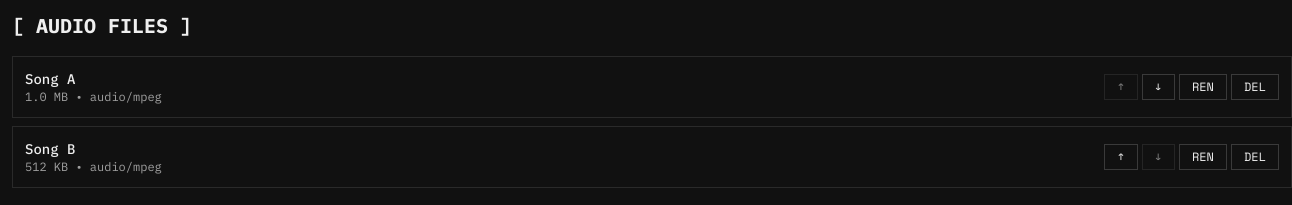
Test: AudioManager › should show error toast with API body when rename returns 409
This screenshot has width=1292, height=205.
Expected: the text "Song A" is shown, left=25, top=70, right=75, bottom=88
Click the button "REN" in the row of "Song A" at [1203, 87], box left=1179, top=74, right=1227, bottom=100
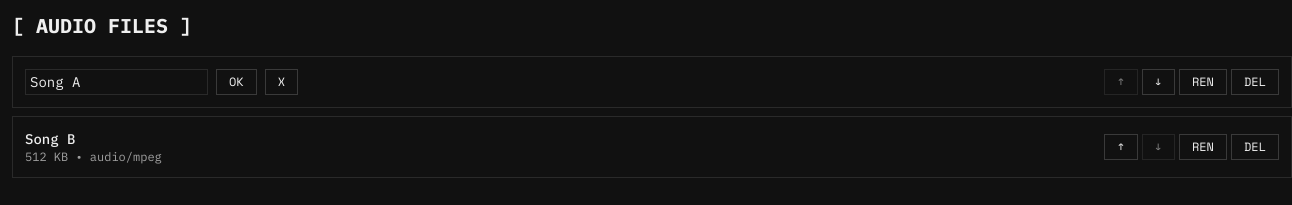
Replace the text in the field named "new title" with "Renamed" at [116, 82], box left=25, top=69, right=208, bottom=95
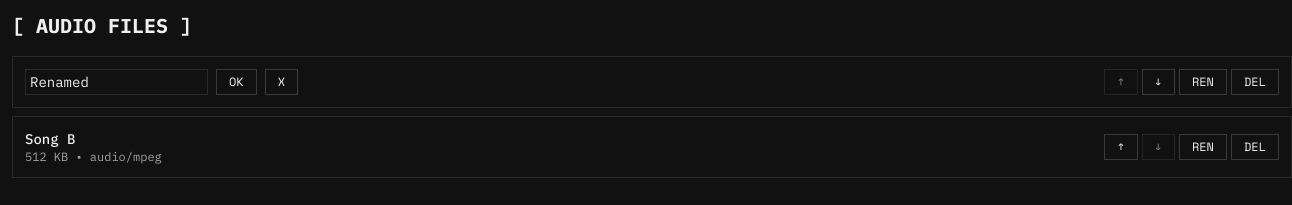
Click the button "OK" at [236, 82], box left=216, top=69, right=257, bottom=95
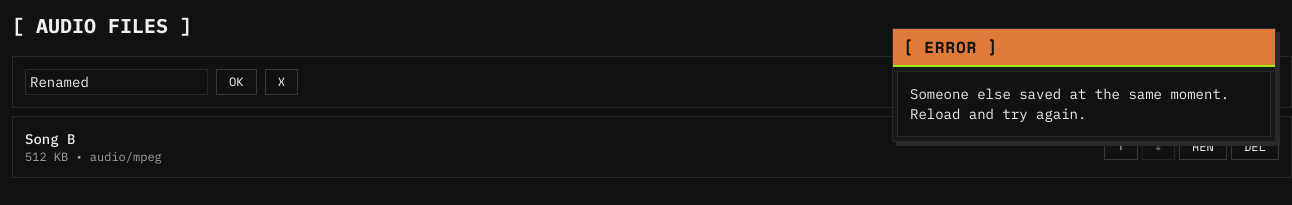
Now the message shows "Someone else saved", box left=910, top=85, right=1229, bottom=123
